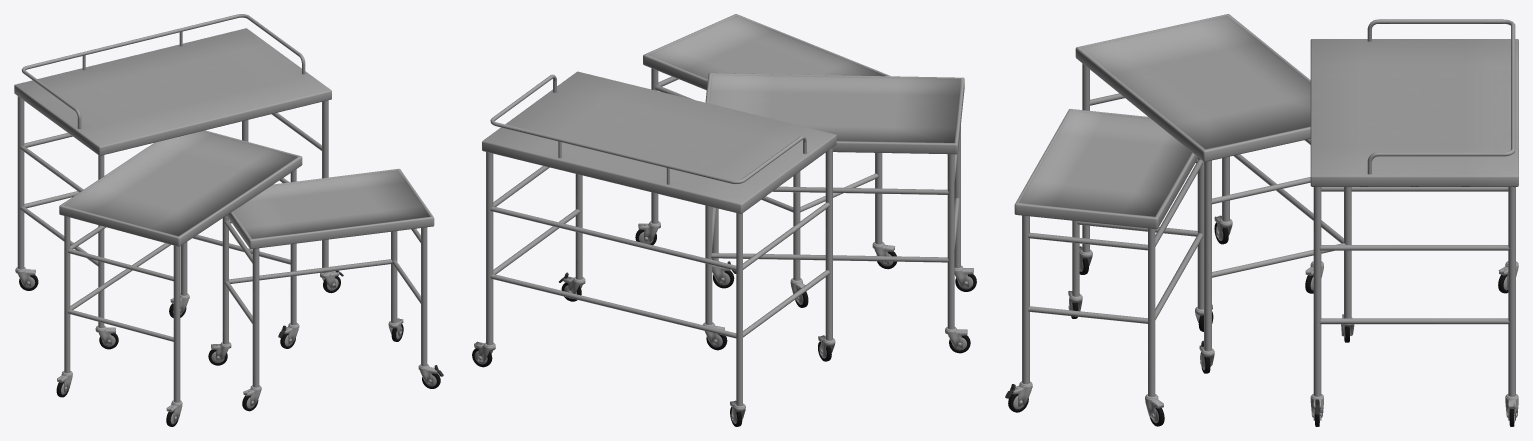
3 renders of one model, left to right at view 1: azimuth 30°, elevation 25°; view 2: azimuth 150°, elevation 25°; view 3: azimuth 270°, elevation 25°, orthographic. The views are drawn at different scales.
Visible parts, largest first — view 1: main toly; view 2: main toly; view 3: main toly.
Boxes of the visible parts, <box> form: main toly: <box>14,14,443,426</box>; main toly: <box>472,14,976,426</box>; main toly: <box>1005,14,1518,426</box>.
Size of what is drawn, in the model's own units: 1.8 by 1.17 by 2.01.
1 material, 1 textured.
